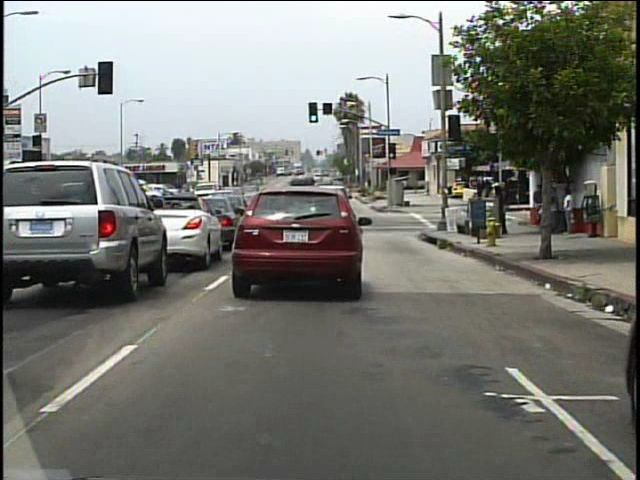person: (561, 186, 576, 234), (500, 182, 513, 235), (531, 182, 546, 224), (554, 182, 555, 236)
